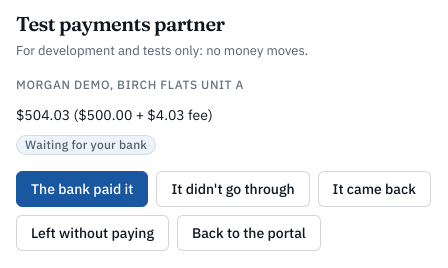
Test: PayFakePage › says what the bank did for the payment in its link
Expected: the text with test id "fake-total" reads "$504.03 ($500.00 + $4.03 fee)", left=16, top=106, right=213, bottom=124
Click the button "The bank paid it" at (82, 189), box left=16, top=171, right=148, bottom=207
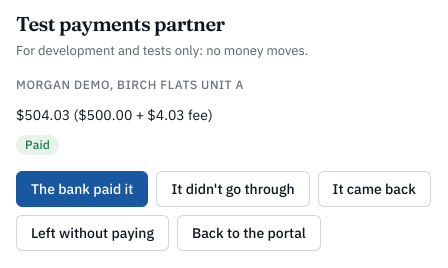
Expected: the text "Paid" is shown, left=25, top=137, right=50, bottom=153
